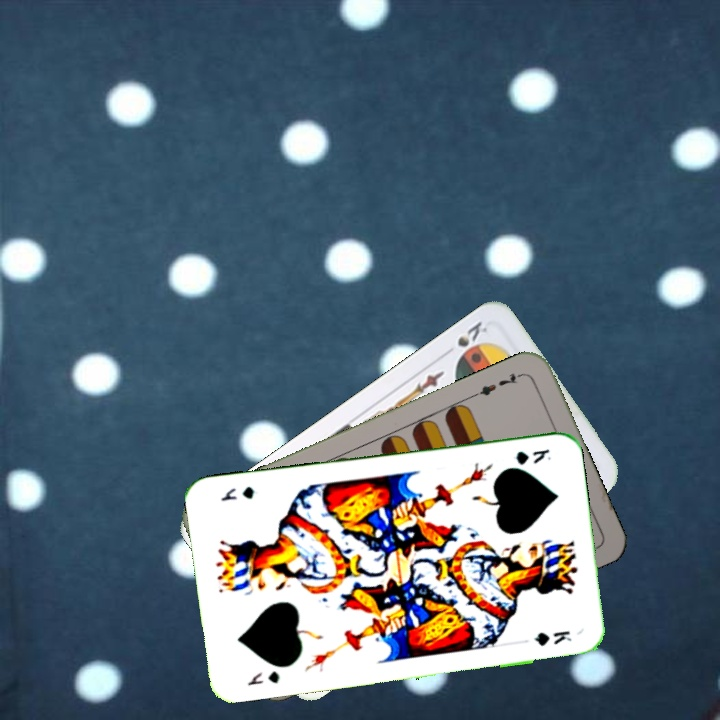E7: (470, 368, 526, 399)
GK: (512, 445, 553, 468), (243, 667, 282, 689)
SK: (453, 317, 491, 350)
